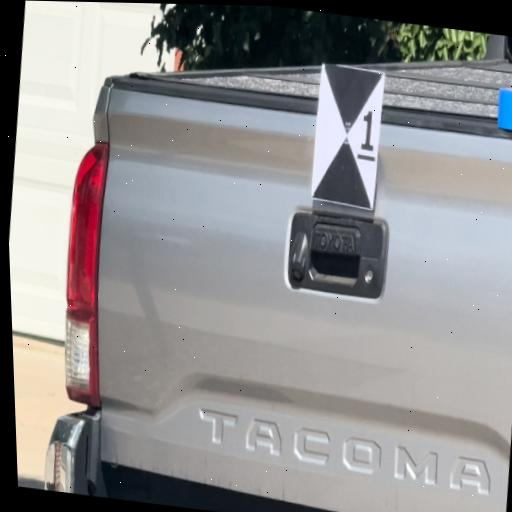target1: (307, 64, 388, 211)
